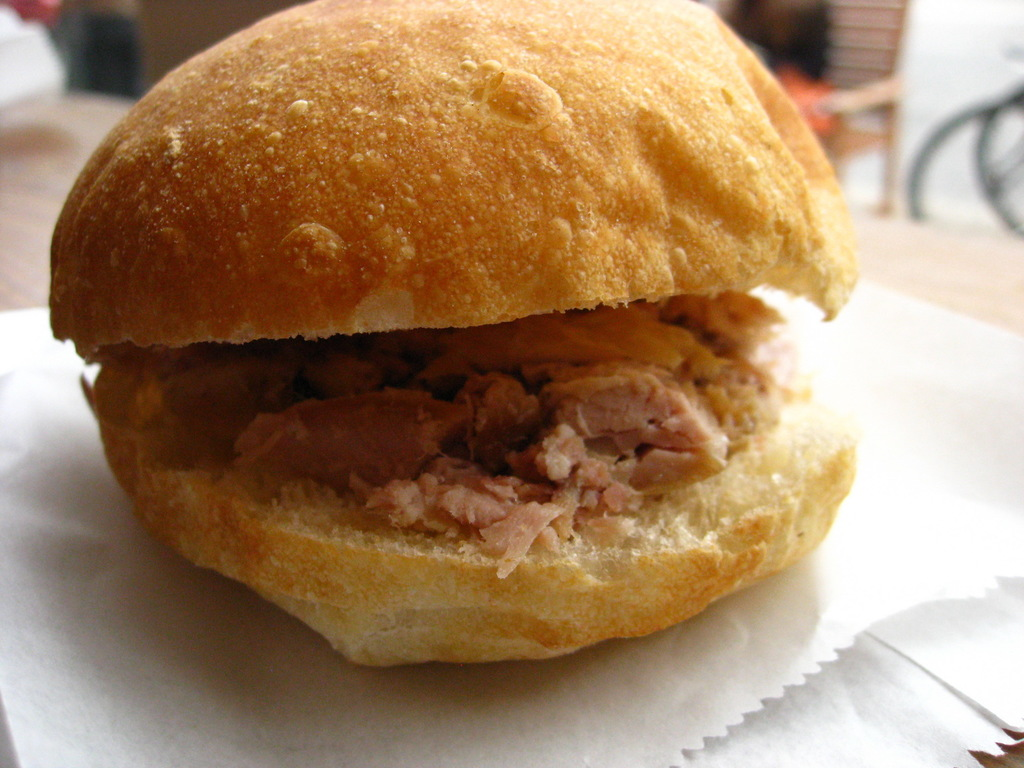Hamburger: (47, 0, 858, 670)
